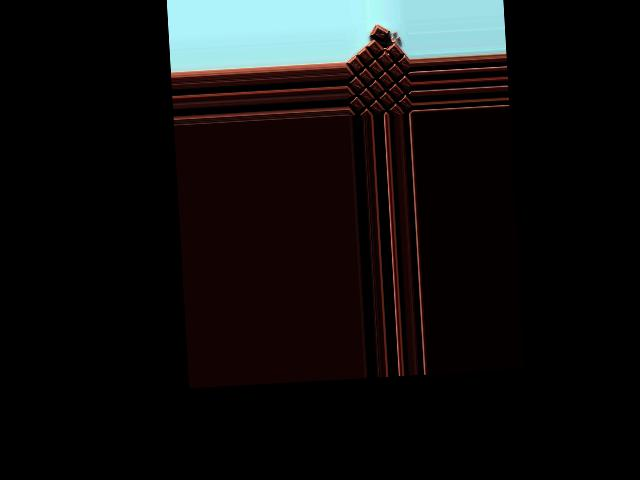chocolate: (347, 32, 411, 117)
